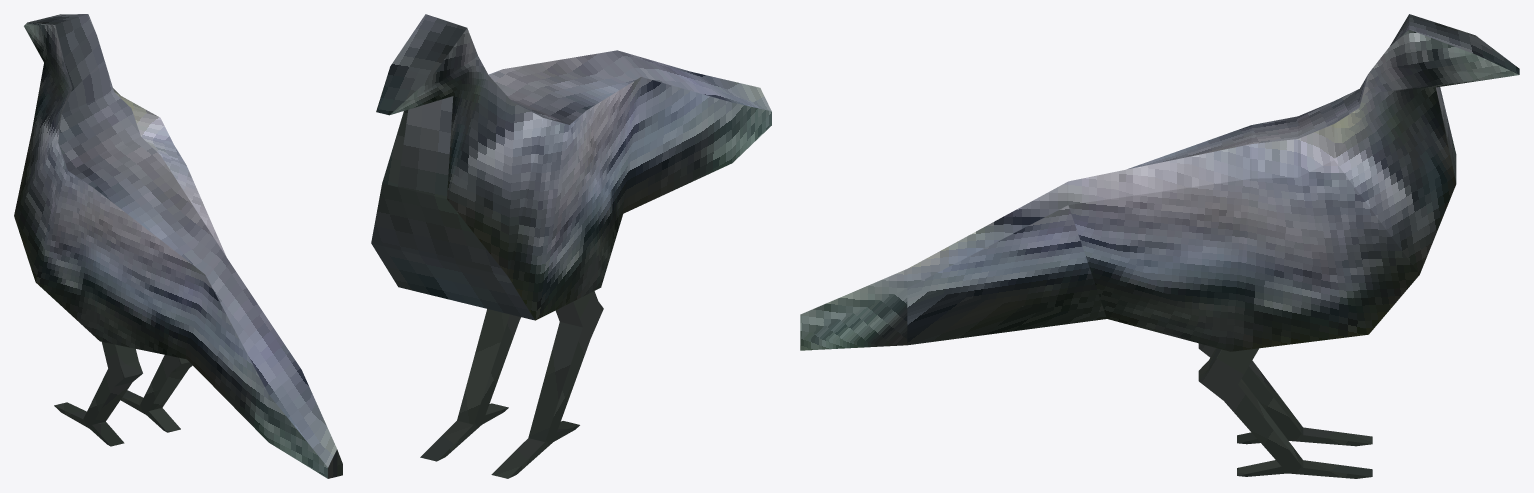
File: raven.glb
The picture shows the model from 3 angles, left to right: view 1: azimuth 30°, elevation 25°; view 2: azimuth 150°, elevation 25°; view 3: azimuth 270°, elevation 25°; orthographic projection. The views are drawn at different scales.
Visible parts, largest first — view 1: Cube; view 2: Cube; view 3: Cube.
Boxes of the visible parts, left/top/right/bottom form: Cube: left=14, top=14, right=342, bottom=478; Cube: left=371, top=14, right=771, bottom=478; Cube: left=800, top=14, right=1519, bottom=478.
Size of the model in its own units: 0.462 by 1.48 by 2.2.
1 material, 1 textured.
